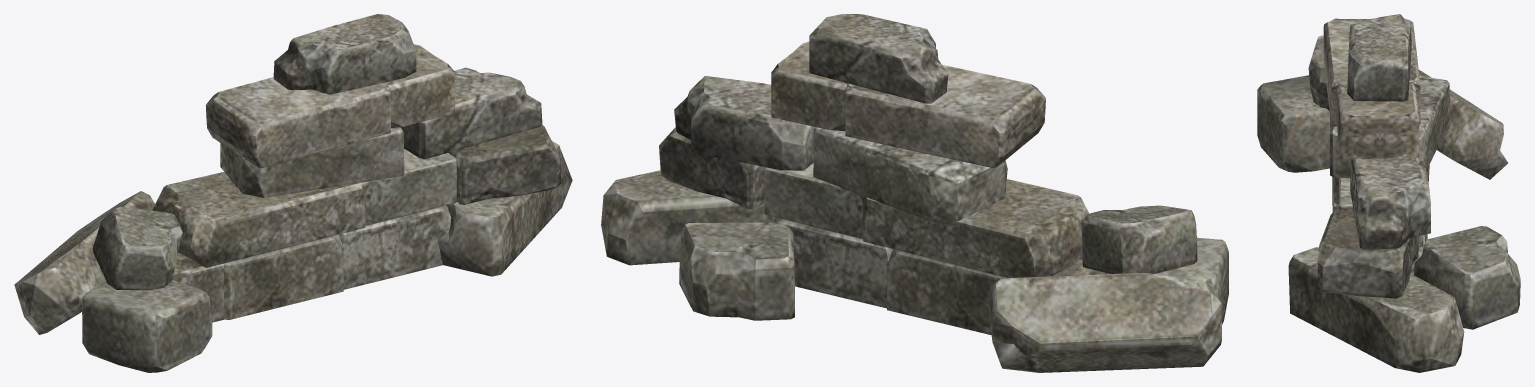
Rendered from bg_anh_mirrorv_wrw01_4_sm_old.FBX.
The picture shows the model from 3 angles, left to right: view 1: azimuth 30°, elevation 25°; view 2: azimuth 150°, elevation 25°; view 3: azimuth 270°, elevation 25°; orthographic projection. The views are drawn at different scales.
Parts seen in each view (by area): view 1: bg_anh_mirrorv_wrw01_4_sm_old; view 2: bg_anh_mirrorv_wrw01_4_sm_old; view 3: bg_anh_mirrorv_wrw01_4_sm_old.
Part boxes in pixels (x1,y1,x2,y2): bg_anh_mirrorv_wrw01_4_sm_old: (14,14,572,372); bg_anh_mirrorv_wrw01_4_sm_old: (601,14,1228,372); bg_anh_mirrorv_wrw01_4_sm_old: (1257,14,1520,372).
Bounding box in the file's own units: 364 × 145 × 153.
